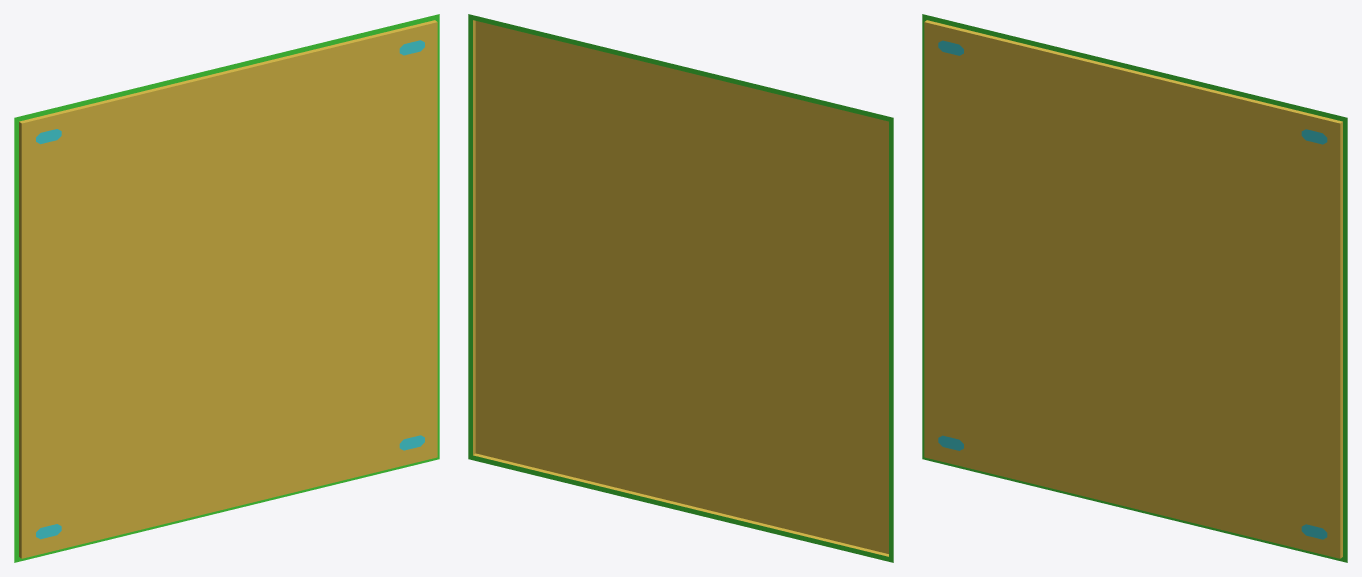
The model's file is Wall_49_F.fbx.
The picture shows the model from 3 angles, left to right: view 1: azimuth 30°, elevation 25°; view 2: azimuth 150°, elevation 25°; view 3: azimuth 330°, elevation 25°; orthographic projection.
Visible parts, largest first — view 1: Wall_49_F; view 2: Wall_49_F; view 3: Wall_49_F.
Boxes of the visible parts, x1,y1,x2,y2 form: Wall_49_F: (14, 14, 439, 562); Wall_49_F: (468, 14, 893, 562); Wall_49_F: (922, 14, 1347, 562).
Bounding box in the file's own units: 229 × 229 × 2.72.
